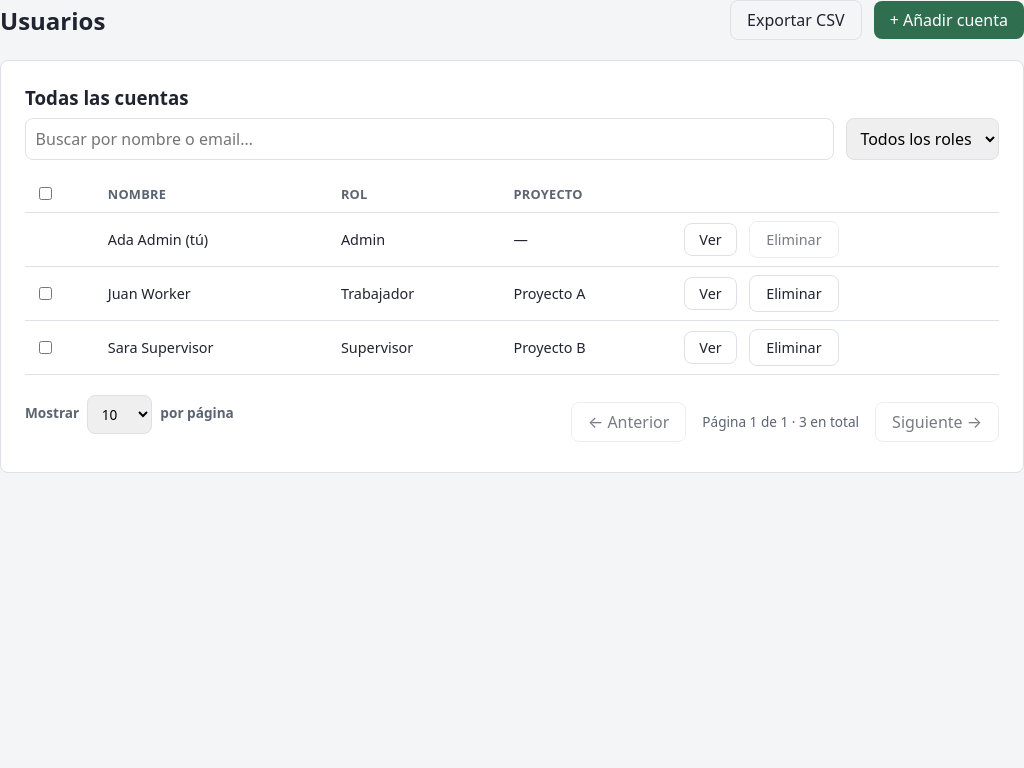
Scenario: AdminUsers › si no se pudo enviar el correo, revela la contraseña provisional
Expected: the text "Juan Worker" is shown, [98,266,331,320]
Click the button "+ Añadir cuenta".
click(949, 20)  # box [874,1,1023,39]
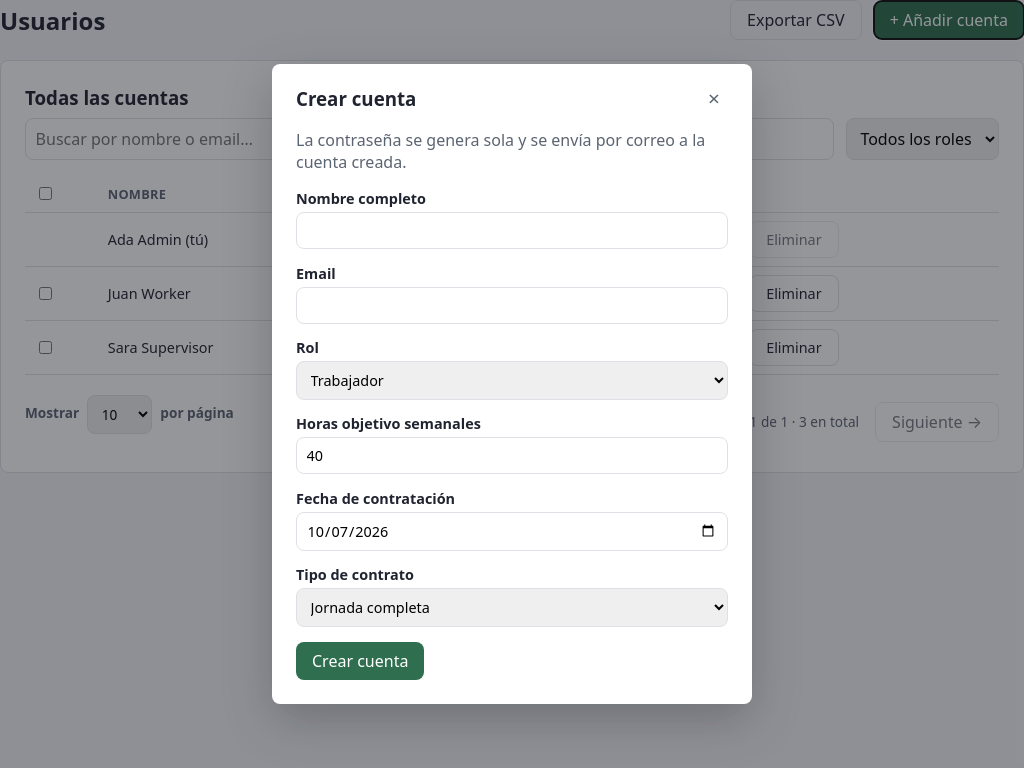
Type "Nuevo Usuario" into the field labelled "Nombre completo".
click(512, 231); type("Nuevo Usuario")  # box [296,212,728,249]
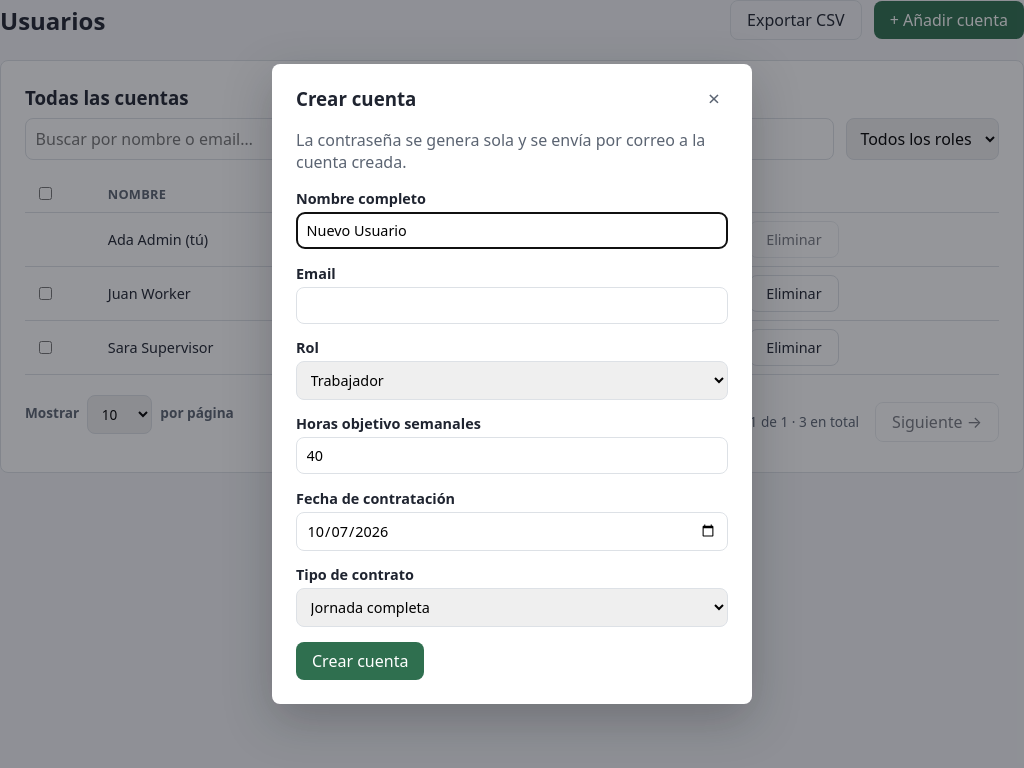
Type "nuevo@test.dev" into the field labelled "Email".
click(512, 305); type("nuevo@test.dev")  # box [296,287,728,324]
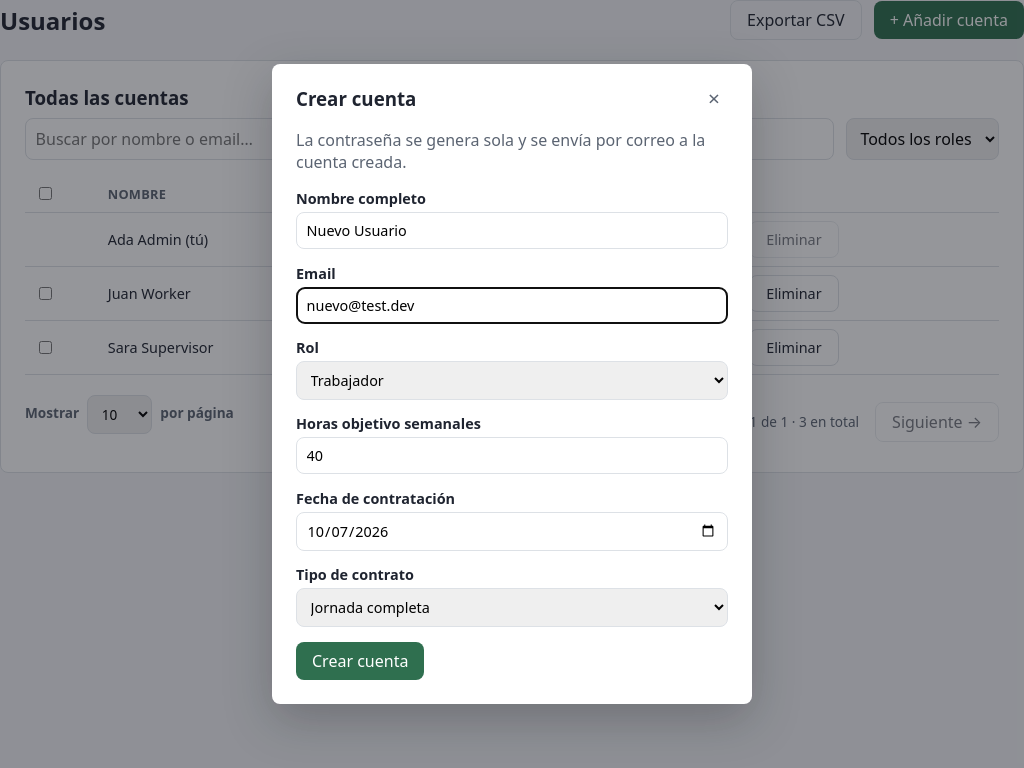
Click the button "Crear cuenta".
click(360, 661)  # box [296,642,424,680]
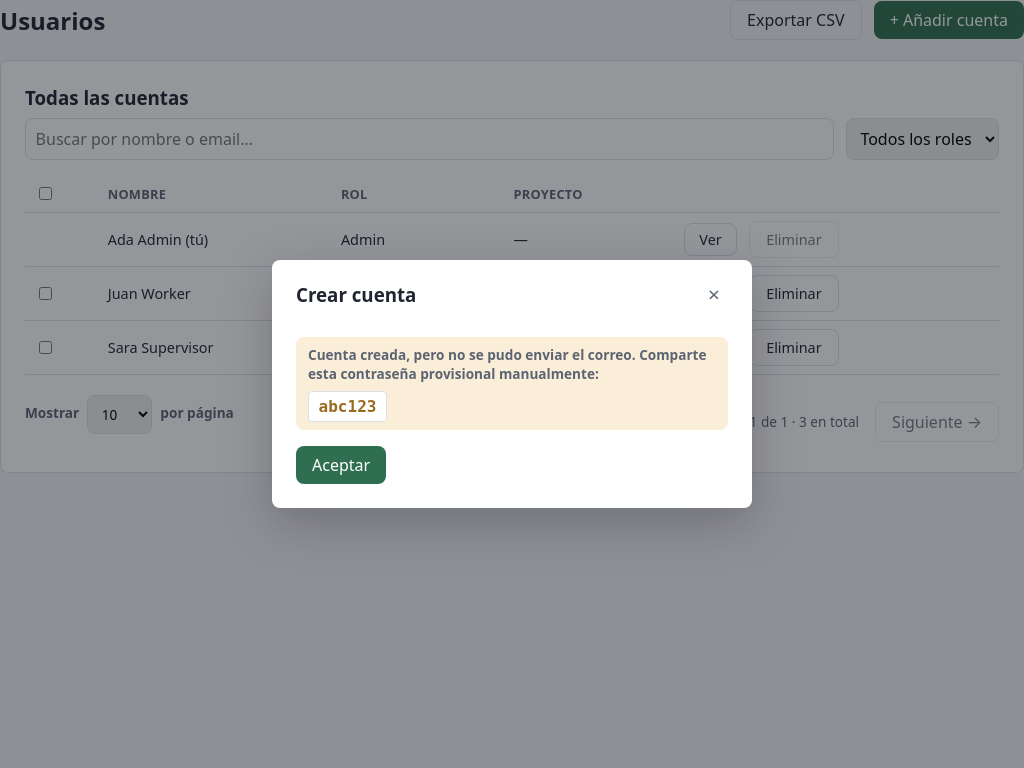
Expected: the text "abc123" is shown, [308,391,387,422]
